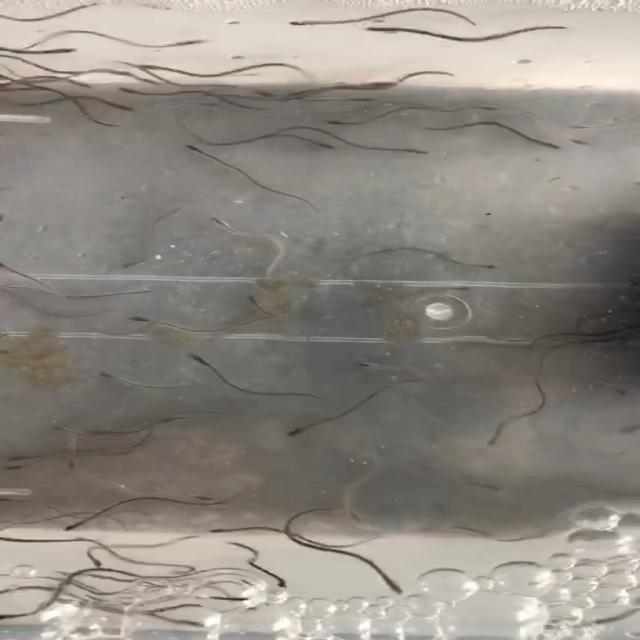active_glass_eel: (369, 580, 421, 611), (82, 365, 139, 393), (470, 430, 512, 462), (112, 312, 170, 334), (456, 478, 519, 498), (160, 33, 228, 51), (263, 425, 310, 451), (198, 214, 241, 241), (431, 285, 491, 304), (256, 576, 315, 594), (56, 509, 98, 533), (174, 616, 222, 636), (95, 257, 163, 271), (330, 360, 388, 376), (184, 351, 226, 371), (42, 425, 80, 446), (61, 457, 103, 475), (331, 95, 393, 107), (461, 259, 514, 273), (59, 75, 100, 93), (185, 488, 220, 509), (357, 78, 407, 92), (401, 143, 432, 164), (304, 137, 338, 156), (48, 43, 94, 57), (232, 294, 274, 309), (107, 103, 148, 118), (129, 60, 172, 74), (471, 102, 514, 116), (170, 139, 212, 153), (108, 83, 144, 99), (354, 22, 387, 39), (279, 17, 311, 32), (4, 454, 34, 470), (2, 466, 37, 479), (82, 560, 114, 574), (536, 135, 556, 156), (201, 526, 238, 537), (323, 116, 349, 129), (0, 494, 28, 506), (0, 611, 27, 623), (570, 137, 590, 152), (0, 536, 27, 546)
